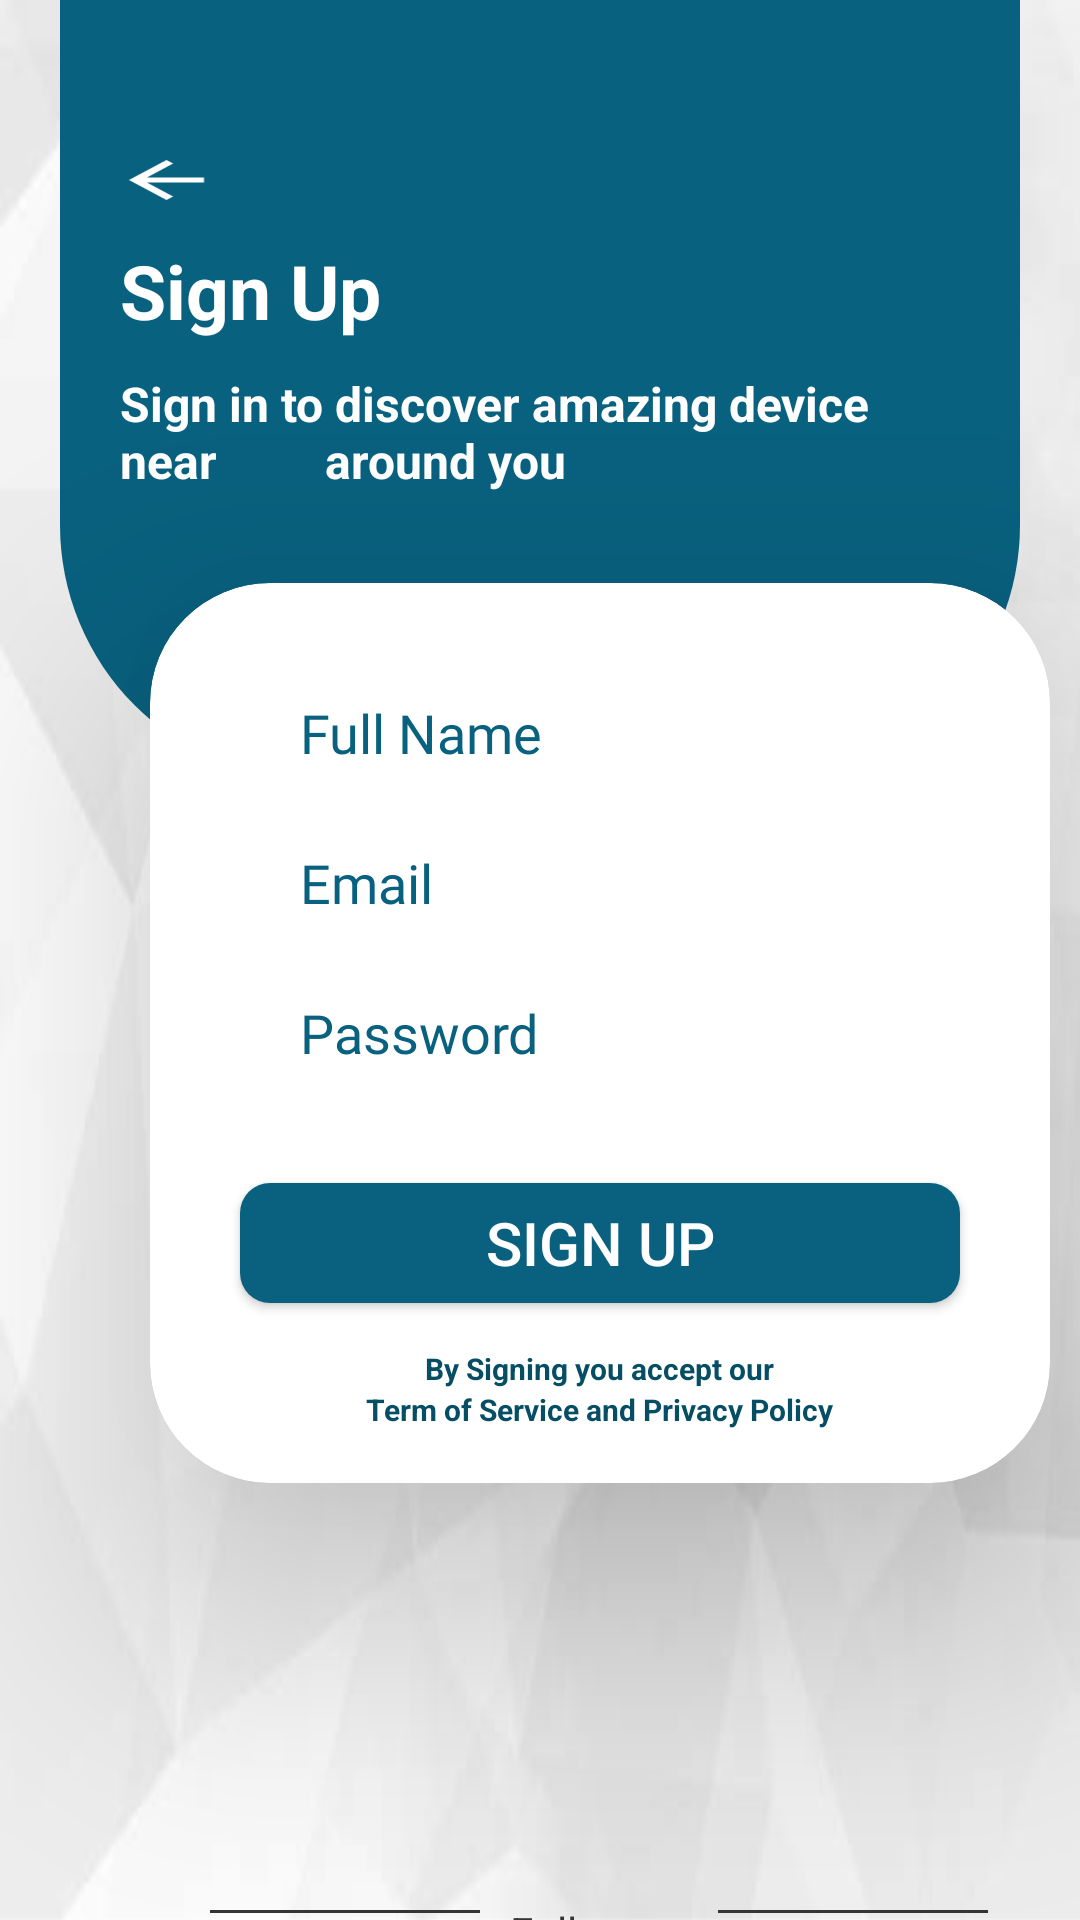

Icons on this 1080px x 1920px Android screen, each with its box as {"x1": x1, "y1": y1, "x2": x2, "y2": y2}:
arrow back: {"x1": 129, "y1": 160, "x2": 205, "y2": 200}
